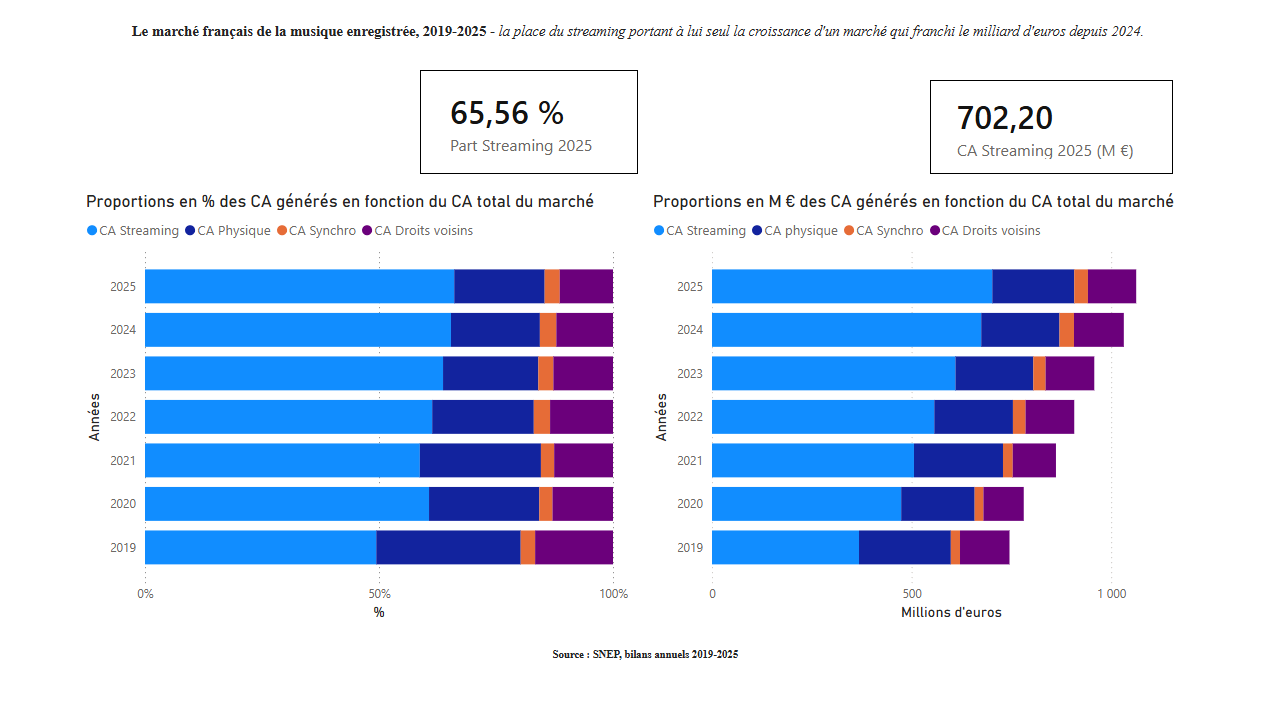

What the dashboard file says about the page in this screenshot:
{"tool":"powerbi","page":{"name":"Page 2","canvas":[1280,720],"ordinal":1},"visuals":[{"type":"hundredPercentStackedBarChart","title":"Proportions en % des CA générés en fonction du CA total du marché","fields":{"Category":["Sheet1.annee"],"Y":["Sum(Sheet1.ca_streaming_meur)","Sum(Sheet1.ca_physique_meur)","Sum(Sheet1.ca_synchro_meur)","Sum(Sheet1.ca_droits_voisins_meur)"]},"box":[82.7,193.3,552.7,434],"z":0},{"type":"barChart","title":"Proportions en M € des CA générés en fonction du CA total du marché","fields":{"Category":["Sheet1.annee"],"Y":["Sum(Sheet1.ca_streaming_meur)","Sum(Sheet1.ca_physique_meur)","Sum(Sheet1.ca_synchro_meur)","Sum(Sheet1.ca_droits_voisins_meur)"]},"box":[650,193.3,562.7,434],"z":1000},{"type":"cardVisual","fields":{"Data":["Table 1 (Sheet1).Part Streaming 2025"]},"box":[422.1,72,217.9,104.1],"z":2000},{"type":"cardVisual","fields":{"Data":["Table 1 (Sheet1).CA Streaming 2025"]},"box":[931.8,81.7,243.2,94.3],"z":2000},{"type":"textbox","box":[0,19.3,1280,33.3],"z":3000},{"type":"textbox","box":[0,640.7,1280,29.3],"z":4000}]}

Visuals, with their boxes in screenshot pixels (x1, y1, x2, y2), scaled from the page's 1280x720 canvas onto the 1277x717 screenshot:
"Proportions en % des CA générés en fonction du CA total du marché" hundredPercentStackedBarChart: bbox(83, 192, 634, 625)
"Proportions en M € des CA générés en fonction du CA total du marché" barChart: bbox(648, 192, 1210, 625)
cardVisual - Table 1 (Sheet1).Part Streaming 2025: bbox(421, 72, 638, 175)
cardVisual - Table 1 (Sheet1).CA Streaming 2025: bbox(930, 81, 1172, 175)
textbox: bbox(0, 19, 1276, 52)
textbox: bbox(0, 638, 1276, 667)
